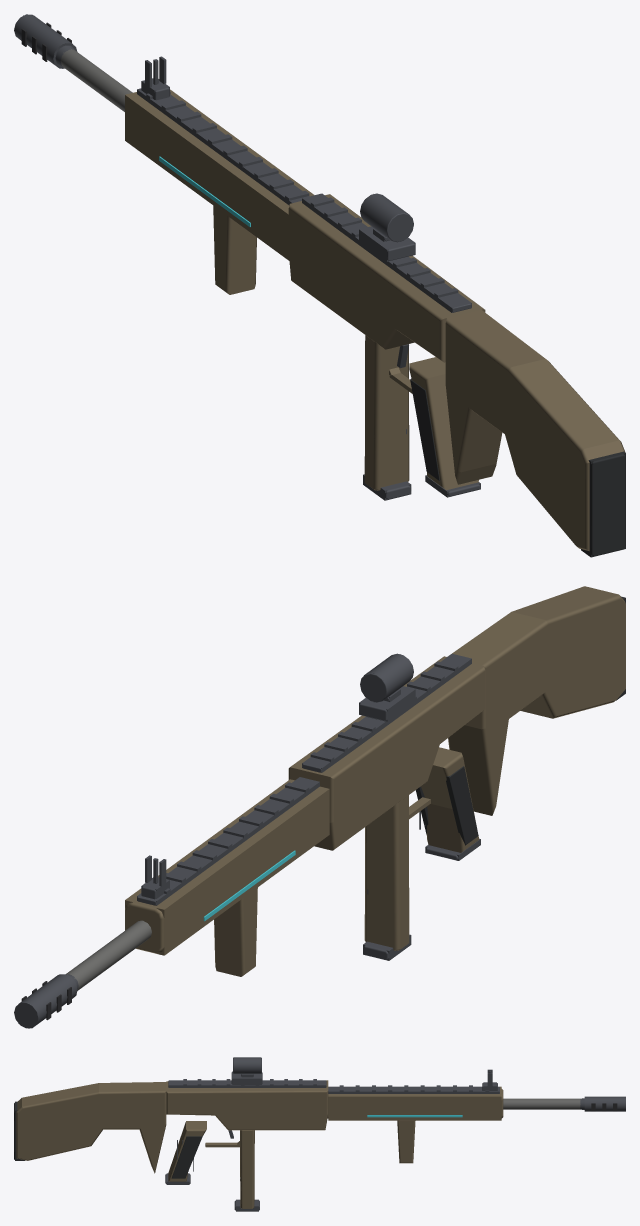
Rendered from d_rook.glb.
The picture shows the model from 3 angles, top to bottom: view 1: azimuth 30°, elevation 25°; view 2: azimuth 150°, elevation 25°; view 3: azimuth 270°, elevation 25°; orthographic projection. The views are drawn at different scales.
Visible parts, largest first — view 1: L0, L1; view 2: L0, L1; view 3: L0, L1.
Part boxes in pixels (left/top/right/bottom): L0: left=14, top=14, right=625, bottom=556; L1: left=15, top=15, right=625, bottom=557; L0: left=14, top=586, right=625, bottom=1028; L1: left=14, top=596, right=625, bottom=1028; L0: left=14, top=1057, right=625, bottom=1210; L1: left=15, top=1058, right=625, bottom=1211.
Bounding box in the file's own units: 0.048 × 0.2865 × 1.06.
